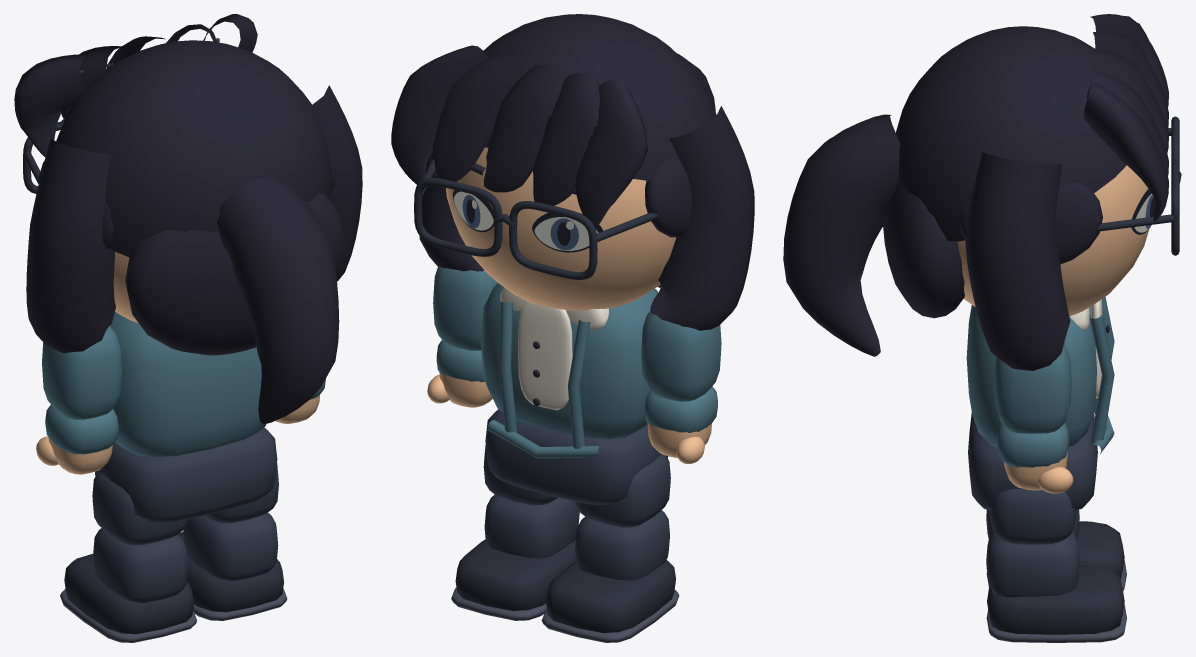
Rendered from modular-person.glb.
The picture shows the model from 3 angles, left to right: view 1: azimuth 30°, elevation 25°; view 2: azimuth 150°, elevation 25°; view 3: azimuth 270°, elevation 25°; orthographic projection.
Parts seen in each view (by area): view 1: HairShort_Hair, HairBob_Hair, HairTied_Hair, Cardigan_Cloth, Torso_Trousers, LeftArm_Cloth, LeftKnee_Trousers, RightKnee_Trousers, LeftKnee_Shoes, RightKnee_Shoes, LeftLeg_Trousers, SleeveLeft_Cloth (+7 smaller); view 2: HairShort_Hair, HairBob_Hair, Cardigan_Cloth, Head_Skin, Torso_Trousers, LeftKnee_Shoes, Cardigan_Undershirt, LeftArm_Cloth, RightKnee_Shoes, Glasses_Glasses, LeftKnee_Trousers, RightKnee_Trousers (+13 smaller); view 3: HairShort_Hair, HairBob_Hair, HairTied_Hair, Cardigan_Cloth, Head_Skin, RightKnee_Shoes, RightArm_Cloth, RightKnee_Trousers, Torso_Trousers, RightLeg_Trousers, SleeveRight_Cloth, LeftKnee_Shoes (+4 smaller).
Boxes of the visible parts, <box> form: HairShort_Hair: <box>14,14,335,257</box>; HairBob_Hair: <box>26,85,362,355</box>; HairTied_Hair: <box>217,176,339,423</box>; Cardigan_Cloth: <box>109,311,266,457</box>; Torso_Trousers: <box>95,427,277,522</box>; LeftArm_Cloth: <box>42,326,121,419</box>; LeftKnee_Trousers: <box>93,528,187,603</box>; RightKnee_Trousers: <box>183,512,278,580</box>; LeftKnee_Shoes: <box>64,554,193,634</box>; RightKnee_Shoes: <box>178,532,283,612</box>; LeftLeg_Trousers: <box>92,472,187,545</box>; SleeveLeft_Cloth: <box>45,405,118,454</box>; HairShort_Hair: <box>391,14,716,237</box>; HairBob_Hair: <box>419,106,754,330</box>; Cardigan_Cloth: <box>480,283,658,448</box>; Head_Skin: <box>445,147,676,310</box>; Torso_Trousers: <box>485,409,667,504</box>; LeftKnee_Shoes: <box>546,560,675,633</box>; Cardigan_Undershirt: <box>500,287,608,410</box>; LeftArm_Cloth: <box>641,311,721,401</box>; RightKnee_Shoes: <box>455,538,575,610</box>; Glasses_Glasses: <box>414,159,657,279</box>; LeftKnee_Trousers: <box>575,510,669,580</box>; RightKnee_Trousers: <box>484,494,579,558</box>; HairShort_Hair: <box>896,14,1168,264</box>; HairBob_Hair: <box>883,151,1070,370</box>; HairTied_Hair: <box>783,114,900,356</box>; Cardigan_Cloth: <box>966,297,1114,447</box>; Head_Skin: <box>957,165,1149,316</box>; RightKnee_Shoes: <box>987,565,1124,634</box>; RightArm_Cloth: <box>994,342,1071,433</box>; RightKnee_Trousers: <box>986,531,1079,597</box>; Torso_Trousers: <box>968,412,1097,510</box>; RightLeg_Trousers: <box>989,489,1076,544</box>; SleeveRight_Cloth: <box>996,423,1069,467</box>; LeftKnee_Shoes: <box>1077,521,1124,578</box>.
Size of the model in its own units: 0.7135 by 1.2 by 0.7661.
